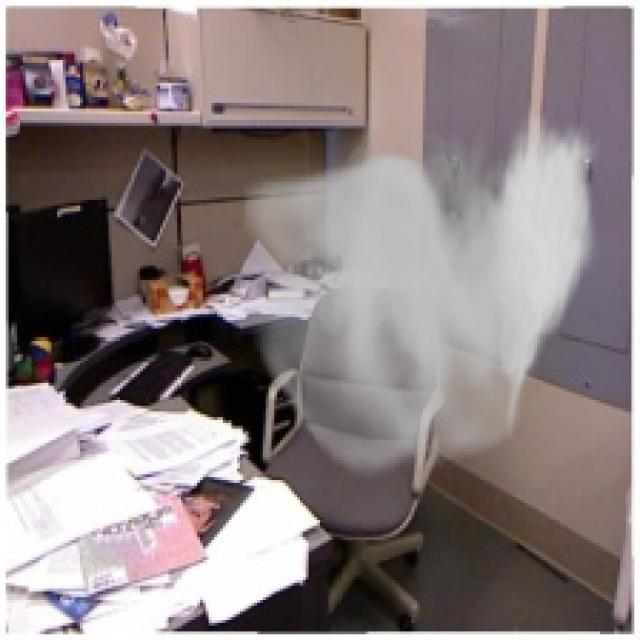Smoke: (243, 108, 600, 486)
